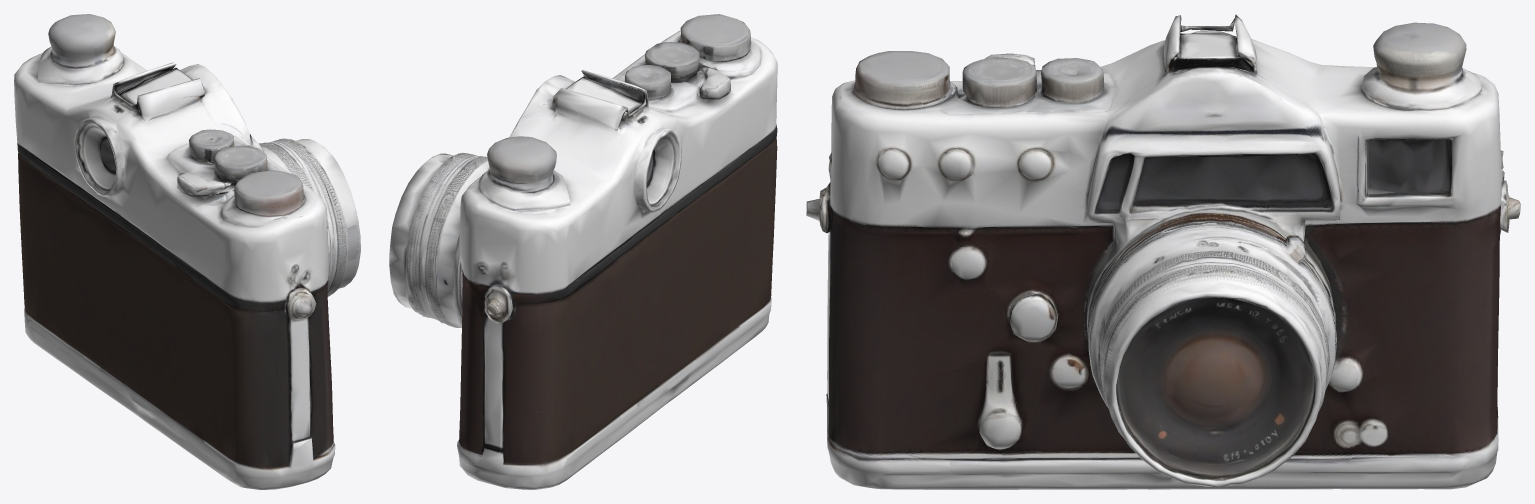
File: BodyVintage.obj
The picture shows the model from 3 angles, left to right: view 1: azimuth 30°, elevation 25°; view 2: azimuth 150°, elevation 25°; view 3: azimuth 270°, elevation 25°; orthographic projection. The views are drawn at different scales.
Bounding box in the file's own units: 15.51 × 20.02 × 29.96.
1 material, 1 textured.
